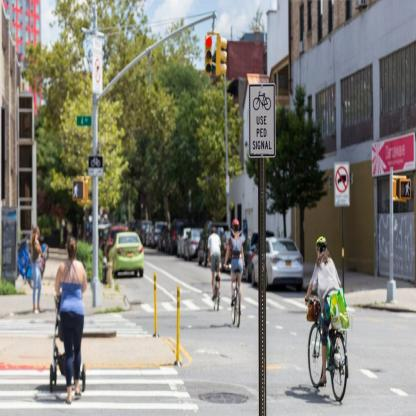Crosswalk: (0, 356, 196, 407)
Traffic Signal: (204, 36, 215, 77)
Walk: (71, 181, 85, 205)
